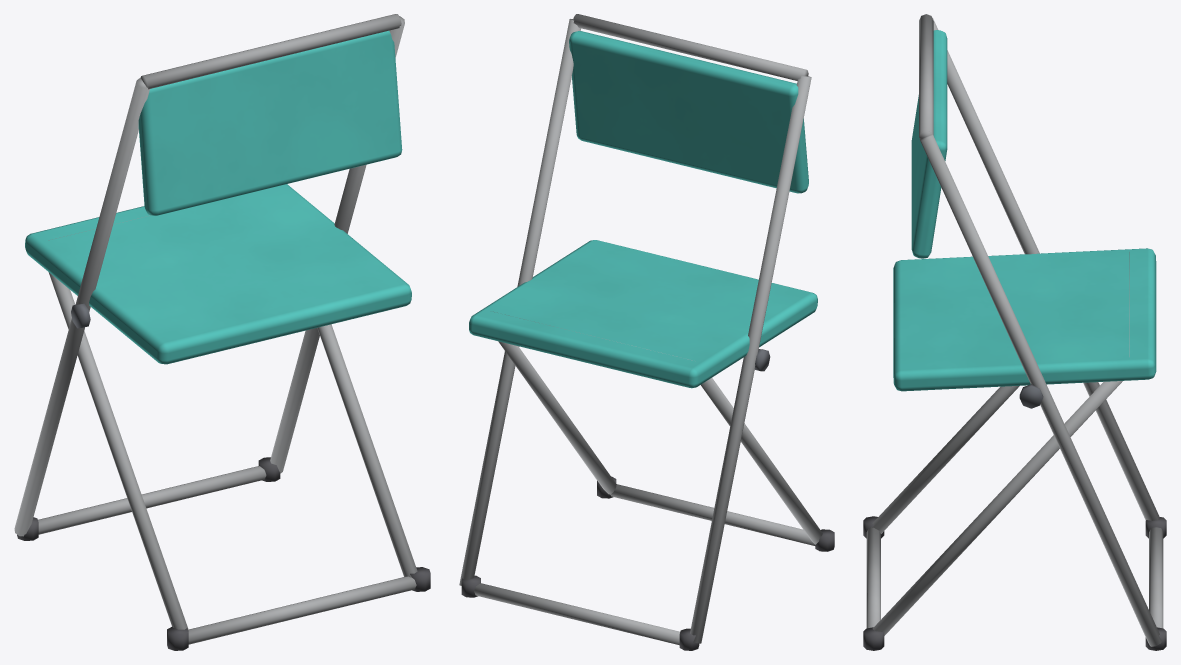
The model's file is Cafe_FoldingChair.fbx.
The picture shows the model from 3 angles, left to right: view 1: azimuth 30°, elevation 25°; view 2: azimuth 150°, elevation 25°; view 3: azimuth 270°, elevation 25°; orthographic projection. The views are drawn at different scales.
Visible parts, largest first — view 1: Cafe_FoldingChair; view 2: Cafe_FoldingChair; view 3: Cafe_FoldingChair.
Part boxes in pixels (x1=…): Cafe_FoldingChair: x1=14, y1=14, x2=430, y2=650; Cafe_FoldingChair: x1=459, y1=14, x2=834, y2=650; Cafe_FoldingChair: x1=863, y1=14, x2=1166, y2=650.
Size of the model in its own units: 0.456 by 0.872 by 0.462.
Materials: 1 (1 with a texture image).
